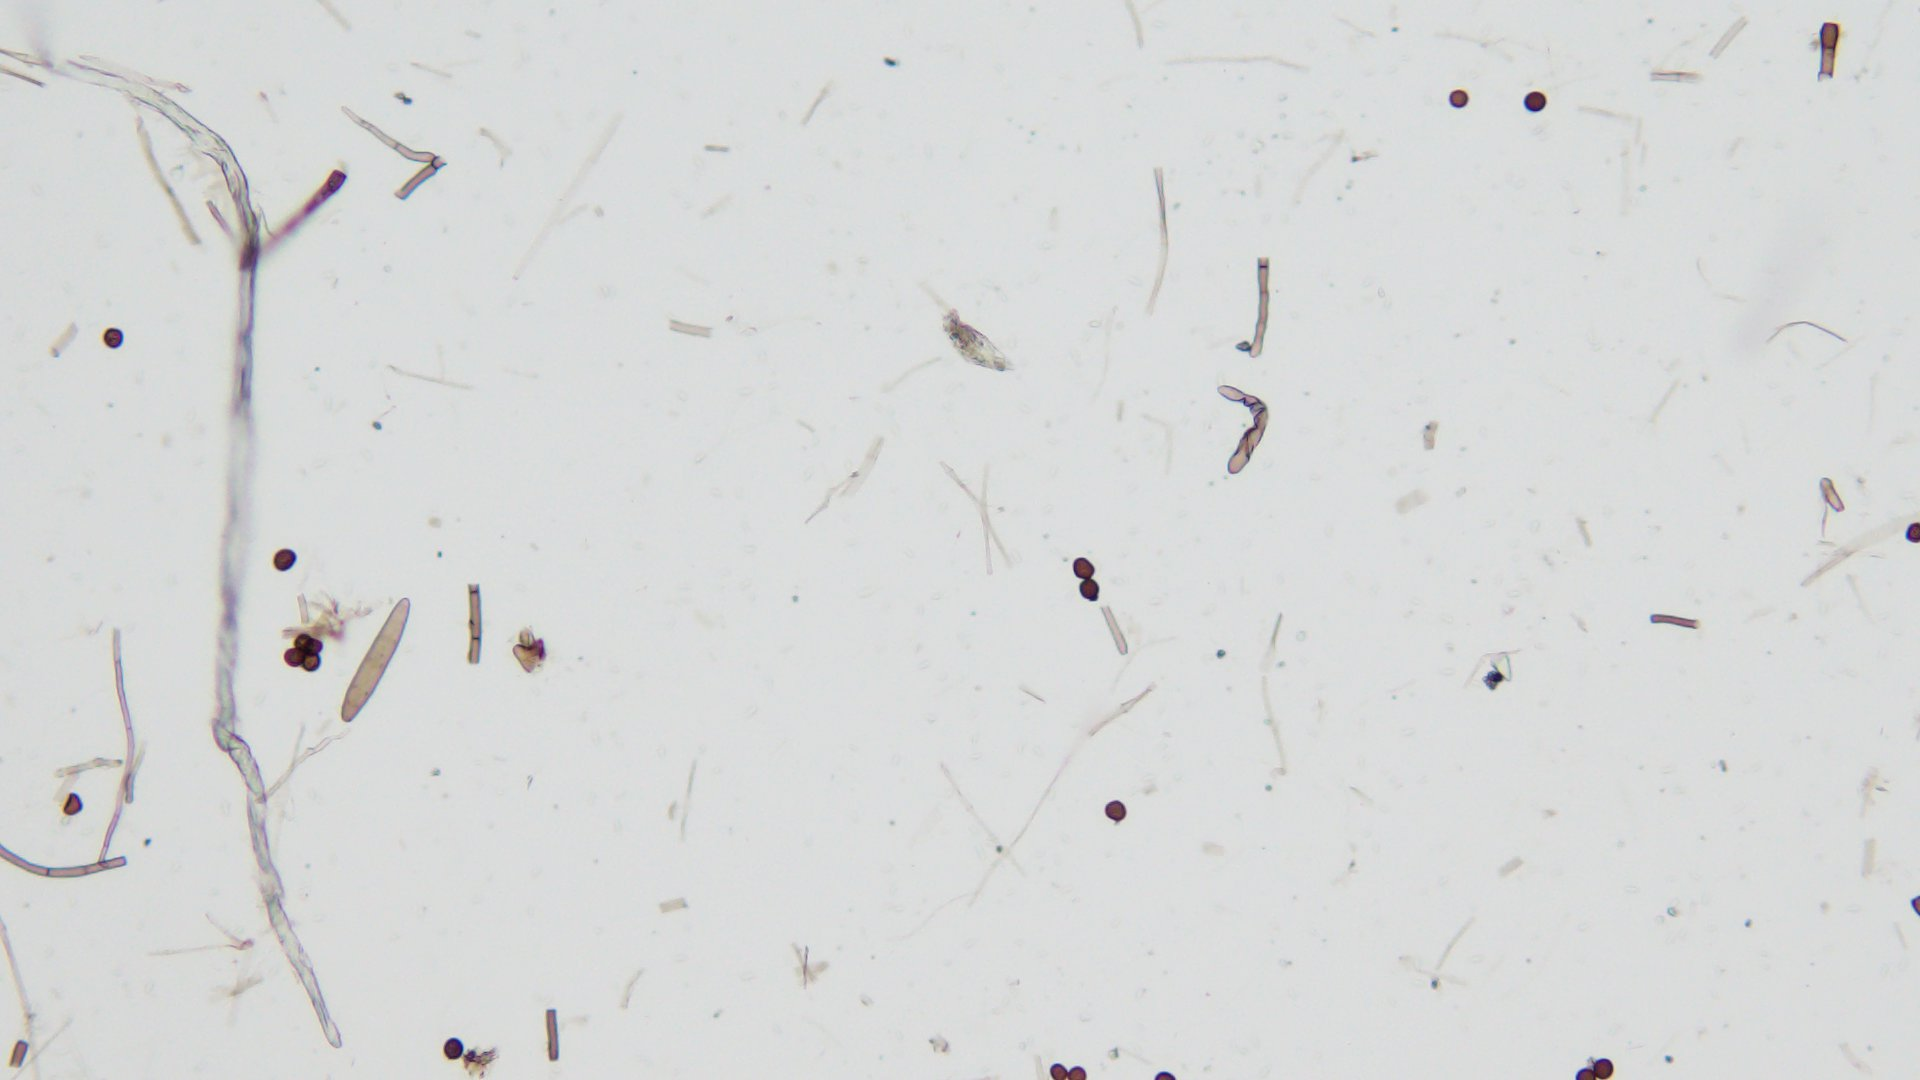dbb_spore: (342, 597, 411, 725)
shs_spore: (1102, 798, 1127, 823), (272, 547, 297, 571), (1079, 578, 1102, 603), (1072, 556, 1095, 582), (440, 1038, 464, 1059), (1524, 91, 1545, 113), (285, 646, 305, 669), (301, 653, 320, 673), (102, 328, 123, 345), (1449, 91, 1468, 109)
